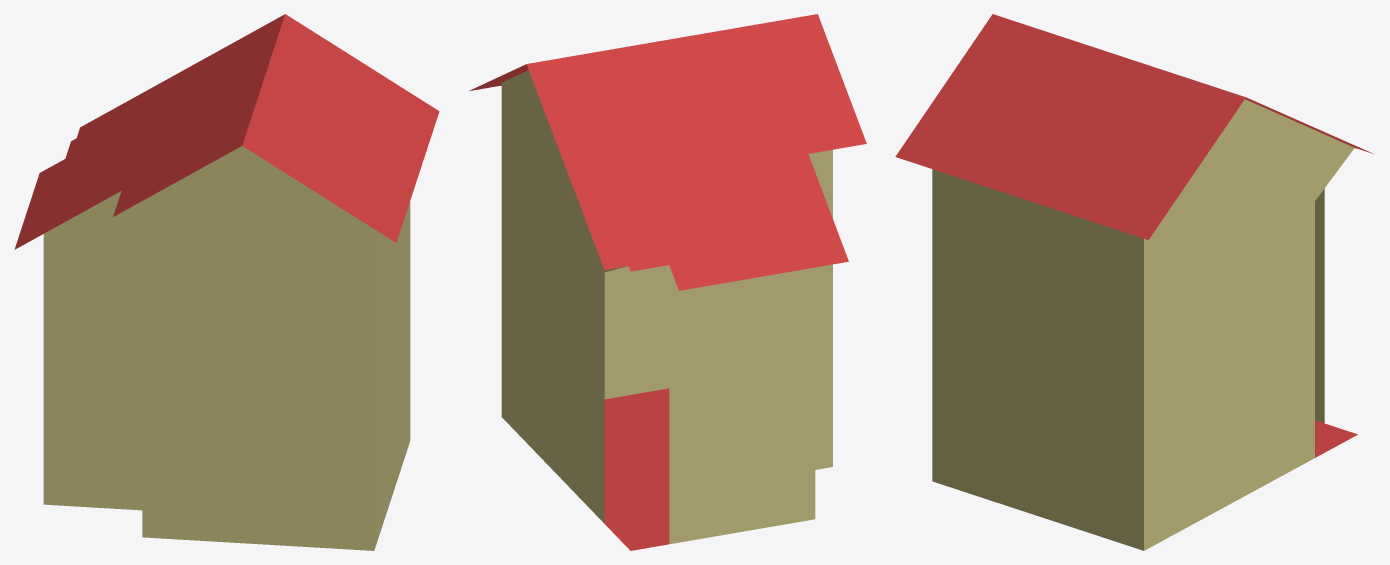
3 renders of one model, left to right at view 1: azimuth 30°, elevation 25°; view 2: azimuth 150°, elevation 25°; view 3: azimuth 270°, elevation 25°, orthographic. The views are drawn at different scales.
Visible parts, largest first — view 1: group_5, group_3; view 2: group_5, group_3, group_6, group_4; view 3: group_5, group_3, group_6.
Part boxes in pixels (bbox=[...]): group_5: bbox=[43, 146, 410, 550]; group_3: bbox=[14, 14, 439, 249]; group_5: bbox=[501, 70, 832, 544]; group_3: bbox=[468, 14, 866, 290]; group_6: bbox=[604, 388, 669, 550]; group_4: bbox=[670, 158, 844, 289]; group_5: bbox=[932, 99, 1354, 550]; group_3: bbox=[895, 14, 1373, 239]; group_6: bbox=[1315, 420, 1357, 457].
Size of the model in its own units: 13.46 by 13.62 by 13.03.
